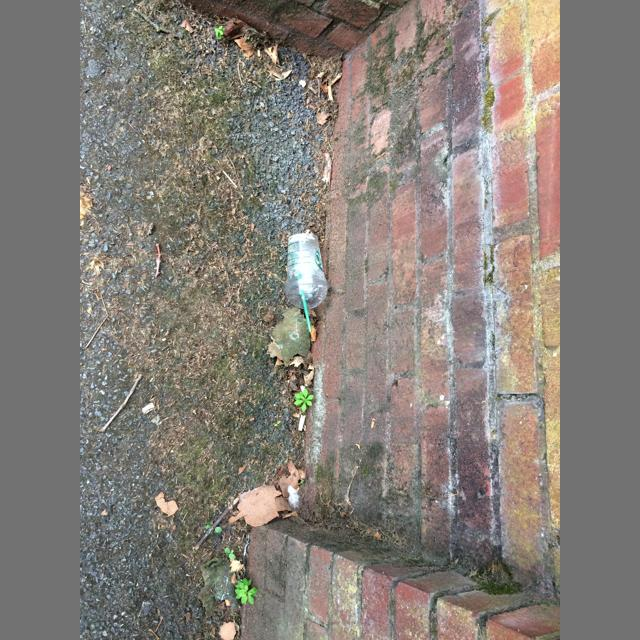litter: (284, 233, 327, 294), (285, 282, 328, 309), (301, 294, 312, 332), (331, 73, 342, 85), (298, 415, 305, 431), (328, 86, 333, 100), (257, 49, 260, 57)
